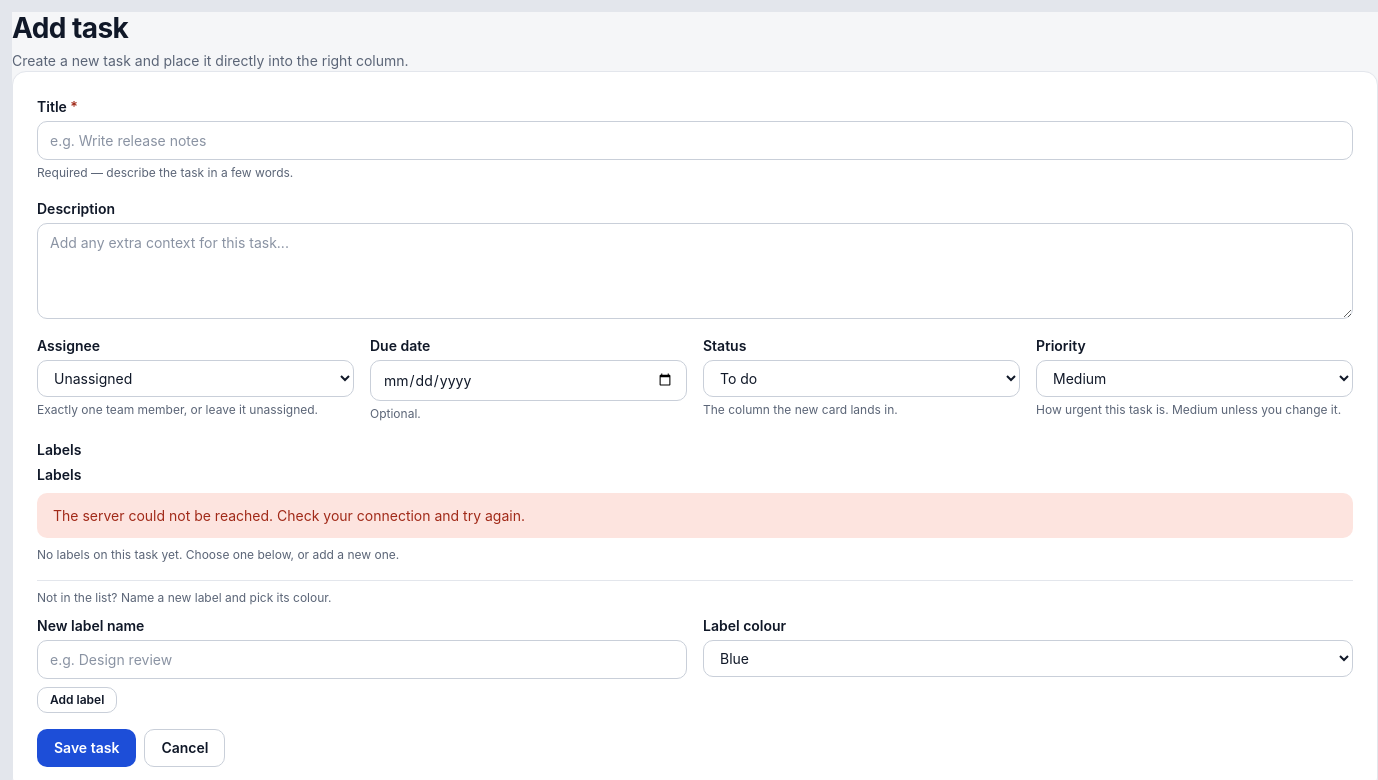
NewTaskPage › reports a blank title inline, keeps the default status and does not submit
expect the dropdown labelled "Status" shows "To do": met, box [703,360,1020,397]
Click the button "Save task" at (87, 748), box [37,729,136,767]
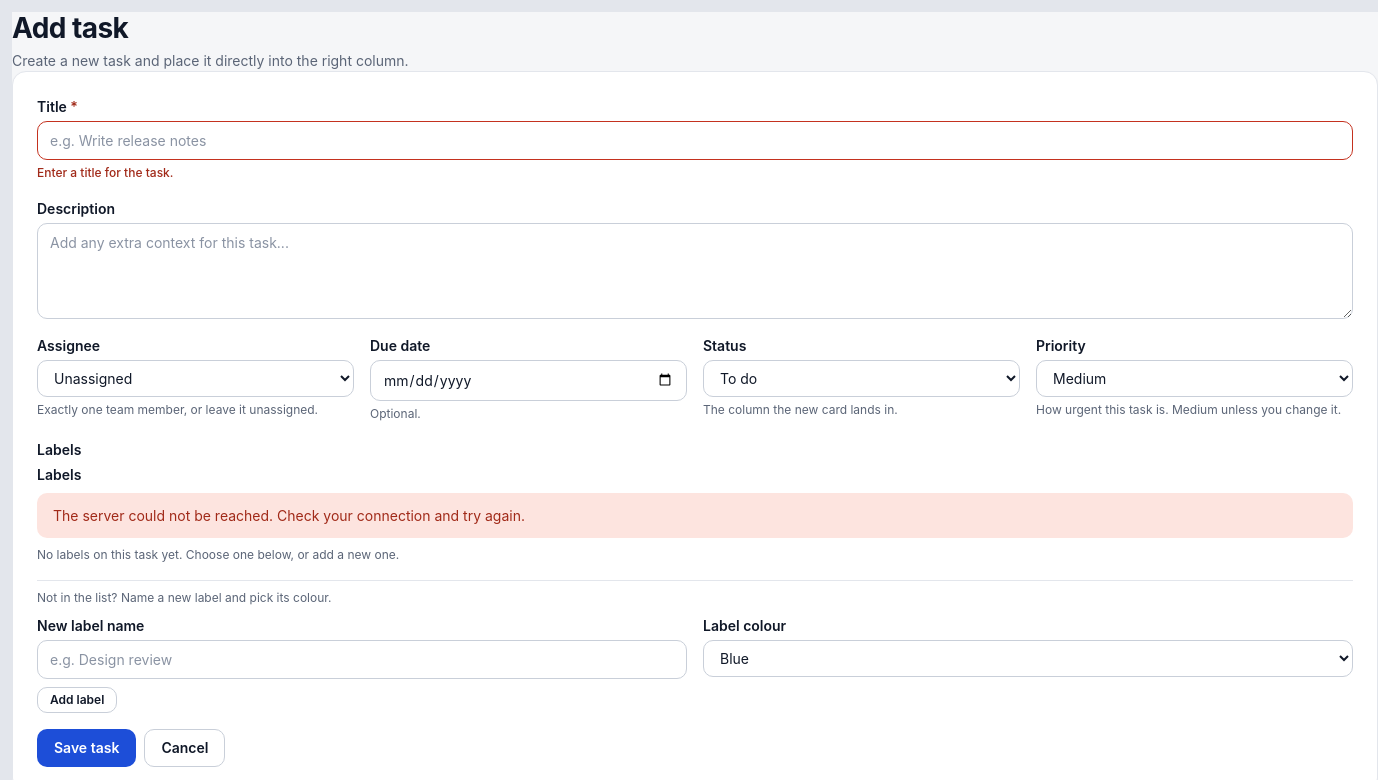
expect the text "Enter a title for the task." is shown: met, box [37,165,174,180]
